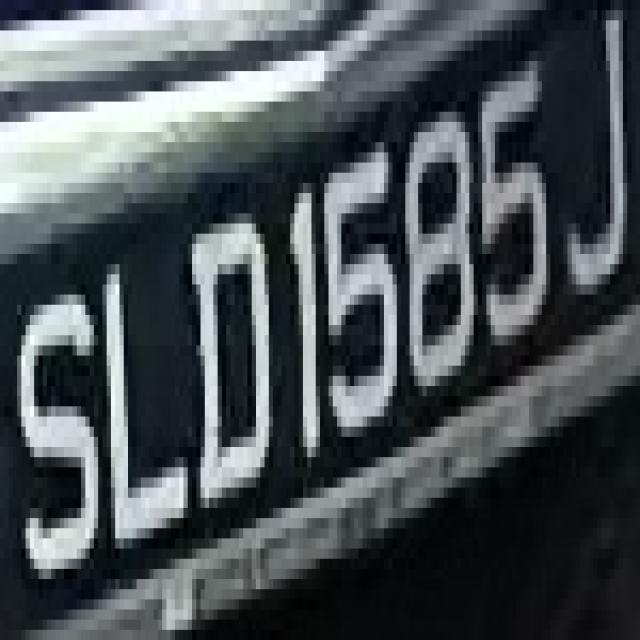1: (282, 152, 324, 498)
5: (316, 132, 401, 457), (469, 61, 555, 366)
8: (393, 112, 482, 396)
D: (188, 193, 277, 528)
J: (550, 31, 636, 294)
L: (85, 274, 192, 549)
S: (4, 274, 102, 589)
